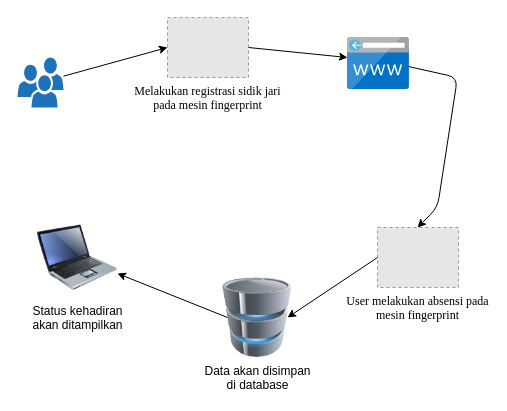
Some shapes in this 507 by 411 pixel diagram are drawn without their labels. Grey dashed boxes stand in for pictures. Here are the shapes that lost their labels. From the top down, the centre of each, then its label:
At (40,82): "User".
At (378,63): "Login pada web absensi".
